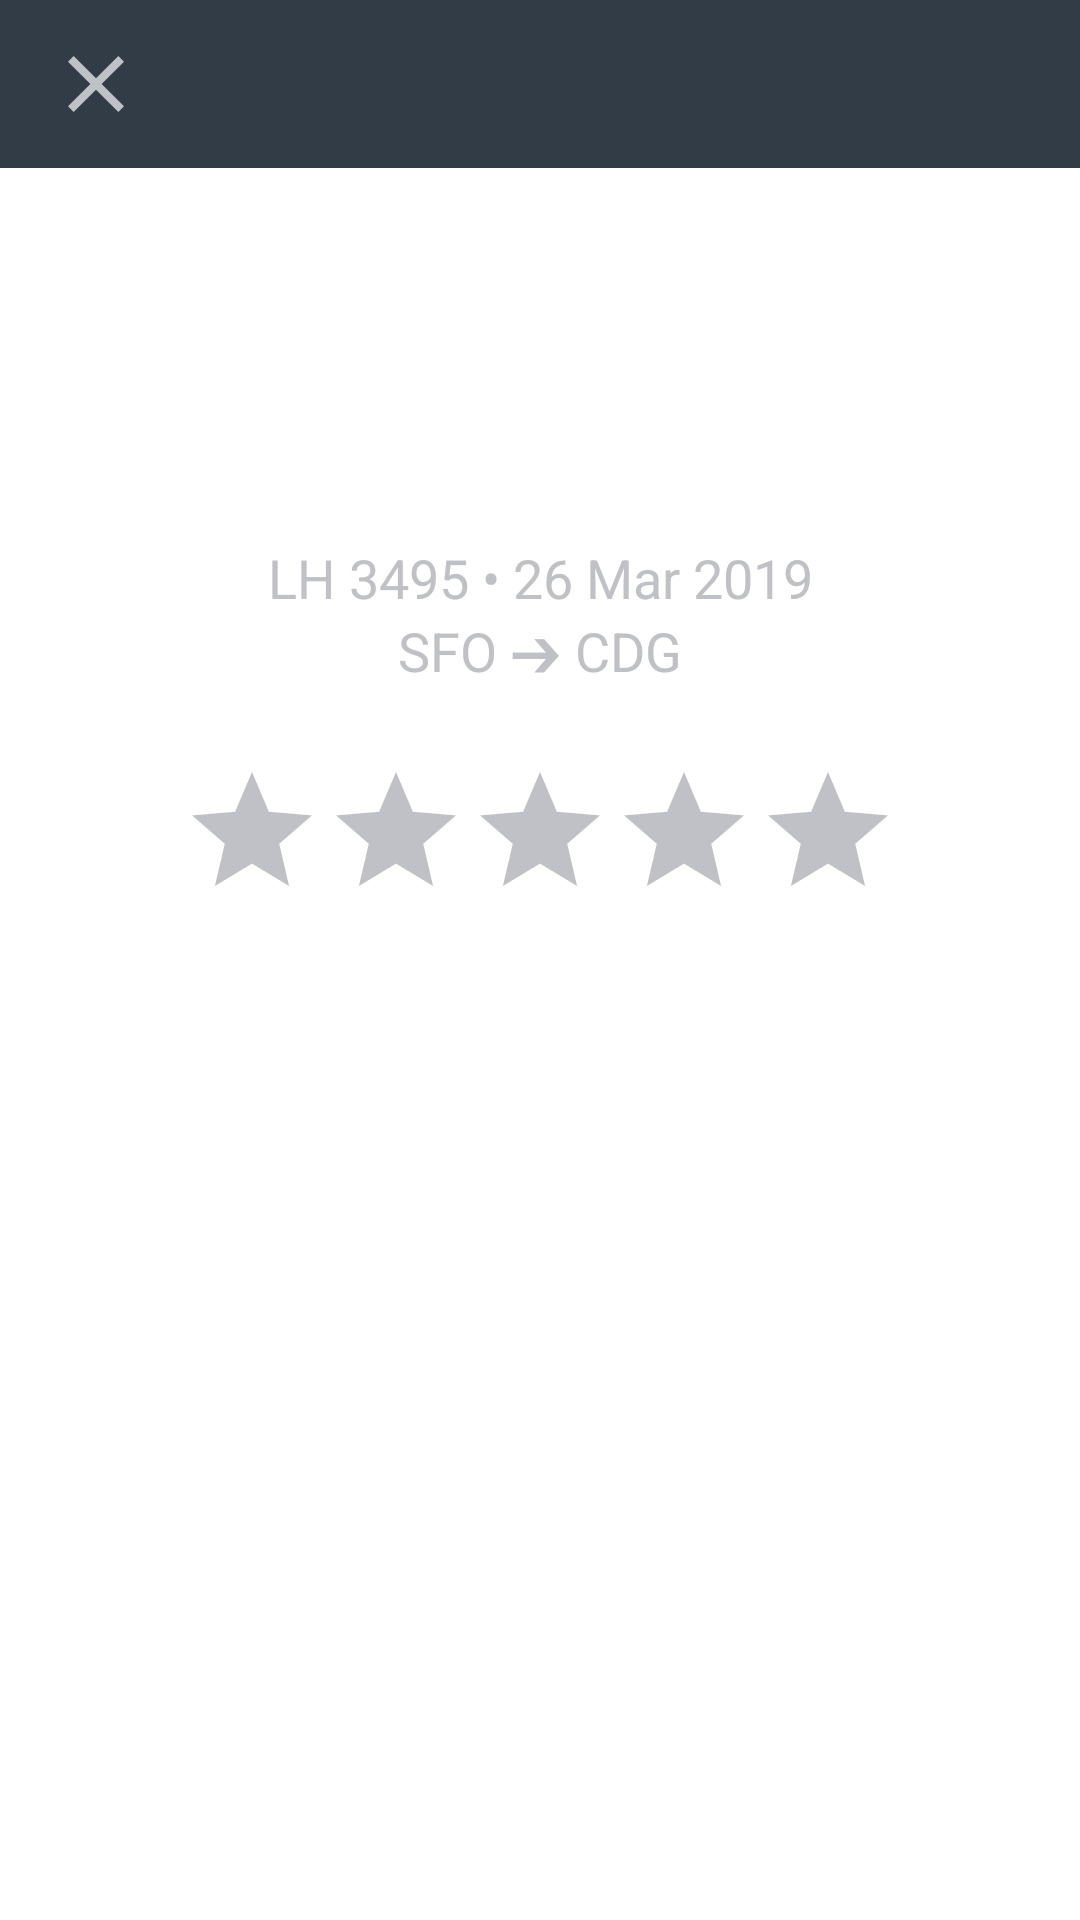

Icon bounding boxes for this 1080*1920 phone screenshot, format (x1, y1, x2, y2):
close: (68, 56, 124, 112)
